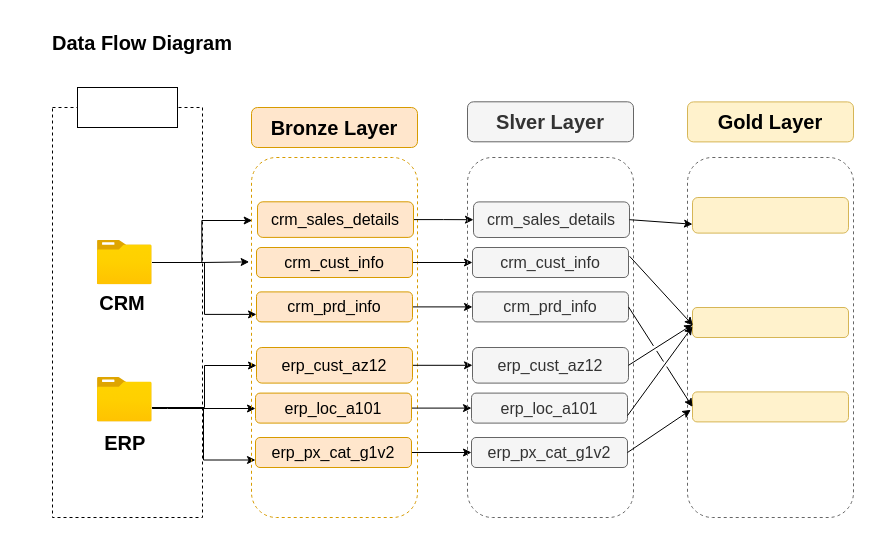
Some shapes in this 871 by 535 pixel diagram are drawn without their labels. The shapes that lost their labels are listed below. From the top down, each one's centre as x and y in pixels, then its label:
At (x=127, y=107): "Sources".
At (x=770, y=214): "fact_sales".
At (x=770, y=322): "dim_customers".
At (x=770, y=406): "dim_products".
